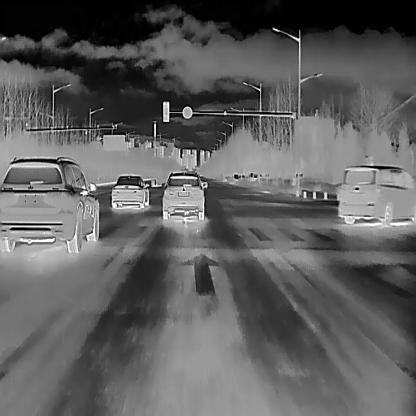car: (0, 155, 98, 252), (336, 163, 415, 226), (160, 170, 208, 219), (111, 174, 148, 207), (232, 173, 240, 180)
